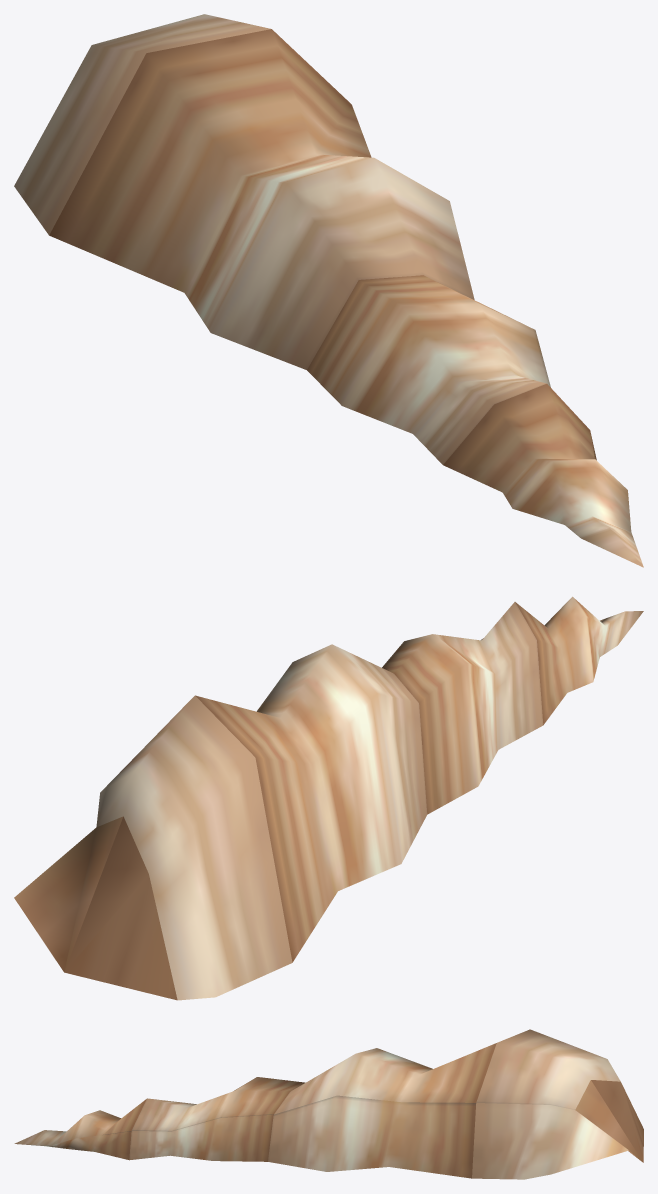
Rendered from environment_common_seabeike_003_d.FBX.
3 renders of one model, top to bottom at view 1: azimuth 30°, elevation 25°; view 2: azimuth 150°, elevation 25°; view 3: azimuth 270°, elevation 25°, orthographic. The views are drawn at different scales.
Parts seen in each view (by area): view 1: environment_common_seabeike_003_d; view 2: environment_common_seabeike_003_d; view 3: environment_common_seabeike_003_d.
Boxes of the visible parts, x1,y1,x2,y2 form: environment_common_seabeike_003_d: [14, 14, 643, 567]; environment_common_seabeike_003_d: [14, 596, 643, 1000]; environment_common_seabeike_003_d: [14, 1029, 643, 1179].
Size of the model in its own units: 12.56 by 10.3 by 50.22.
